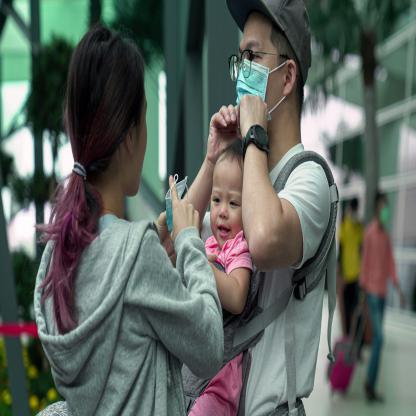Not_Wearing_Mask: (209, 183, 243, 251), (129, 98, 148, 198)
Wearing_Mask: (234, 30, 281, 136)
